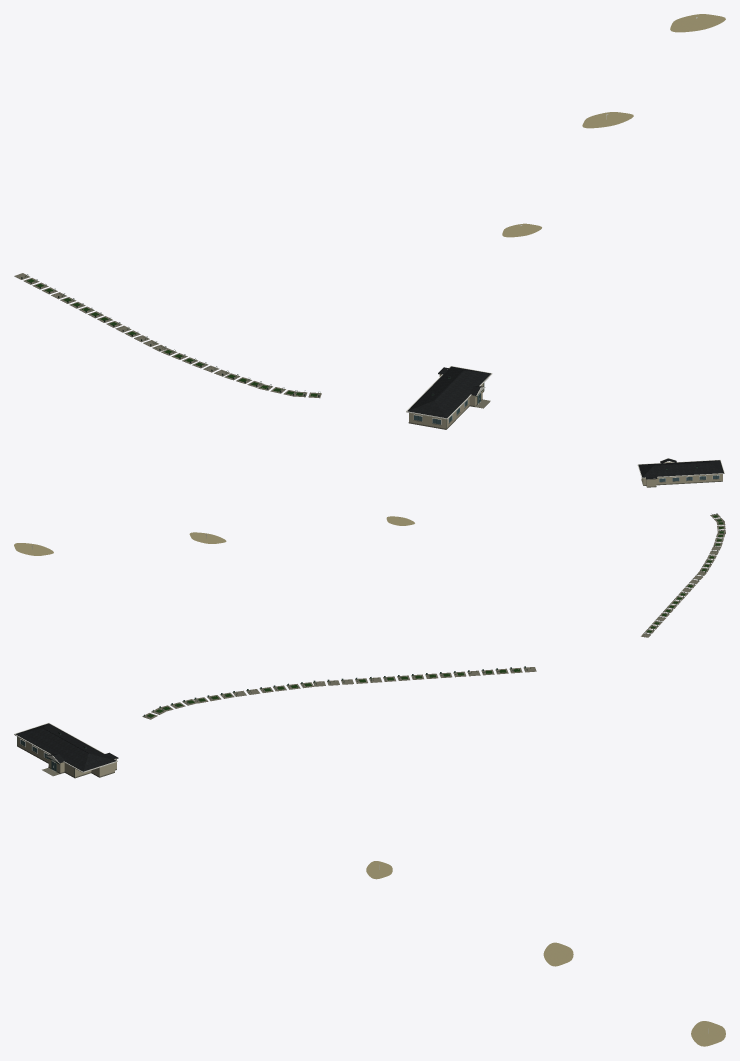
File: golf-center.glb
3 renders of one model, top to bottom at view 1: azimuth 30°, elevation 25°; view 2: azimuth 150°, elevation 25°; view 3: azimuth 270°, elevation 25°, orthographic. The views are drawn at different scales.
Parts seen in each view (by area): view 1: Golf clubhouse Golf charcoal shingles, Golf range stations Golf threshold concrete, Golf range targets Golf range target sand; view 2: Golf clubhouse Golf charcoal shingles, Golf range stations Golf threshold concrete, Golf range targets Golf range target sand, Golf clubhouse Golf warm pale masonry, Golf clubhouse Golf painted eaves; view 3: Golf clubhouse Golf charcoal shingles, Golf range stations Golf threshold concrete, Golf range targets Golf range target sand, Golf clubhouse Golf warm pale masonry.
Part boxes in pixels (bbox=[...]): Golf clubhouse Golf charcoal shingles: bbox=[407, 366, 490, 418]; Golf range stations Golf threshold concrete: bbox=[14, 273, 321, 398]; Golf range targets Golf range target sand: bbox=[502, 14, 725, 237]; Golf clubhouse Golf charcoal shingles: bbox=[638, 458, 723, 479]; Golf range stations Golf threshold concrete: bbox=[641, 514, 725, 637]; Golf range targets Golf range target sand: bbox=[14, 516, 414, 555]; Golf clubhouse Golf warm pale masonry: bbox=[641, 461, 722, 486]; Golf clubhouse Golf painted eaves: bbox=[637, 458, 724, 481]; Golf clubhouse Golf charcoal shingles: bbox=[15, 723, 118, 771]; Golf range stations Golf threshold concrete: bbox=[142, 667, 536, 719]; Golf range targets Golf range target sand: bbox=[366, 861, 725, 1046]; Golf clubhouse Golf warm pale masonry: bbox=[17, 737, 116, 777].
Bounding box in the file's own units: 216 × 5.08 × 171.
9 materials, 5 textured.
